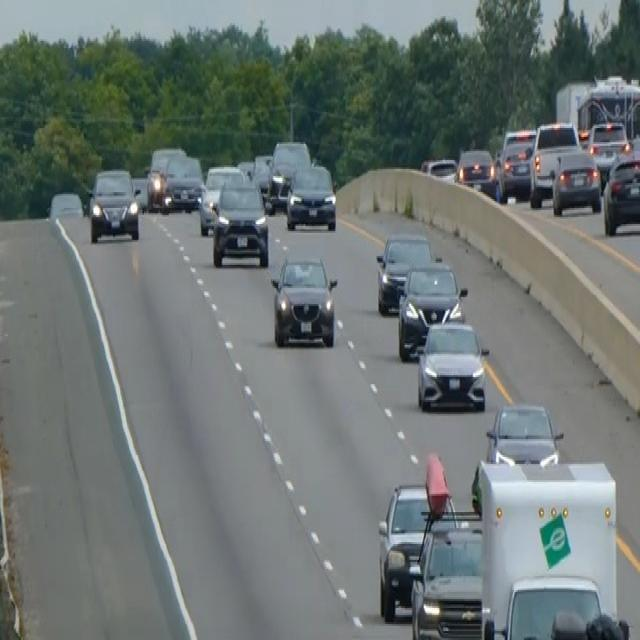car: (470, 400, 563, 512), (410, 508, 484, 638), (376, 480, 434, 620), (396, 259, 467, 361), (415, 318, 489, 412), (211, 178, 269, 268), (485, 400, 563, 466), (375, 229, 432, 315), (528, 119, 581, 206), (86, 166, 140, 243), (285, 162, 337, 231), (550, 148, 602, 215), (198, 162, 245, 234), (602, 148, 639, 235), (267, 137, 310, 210), (496, 126, 536, 201), (586, 119, 629, 187), (146, 144, 186, 210), (161, 153, 203, 211), (455, 144, 498, 197), (251, 151, 273, 203), (420, 155, 457, 183)
jeep: (268, 251, 339, 350)
truck: (473, 455, 619, 638), (555, 71, 639, 149)
